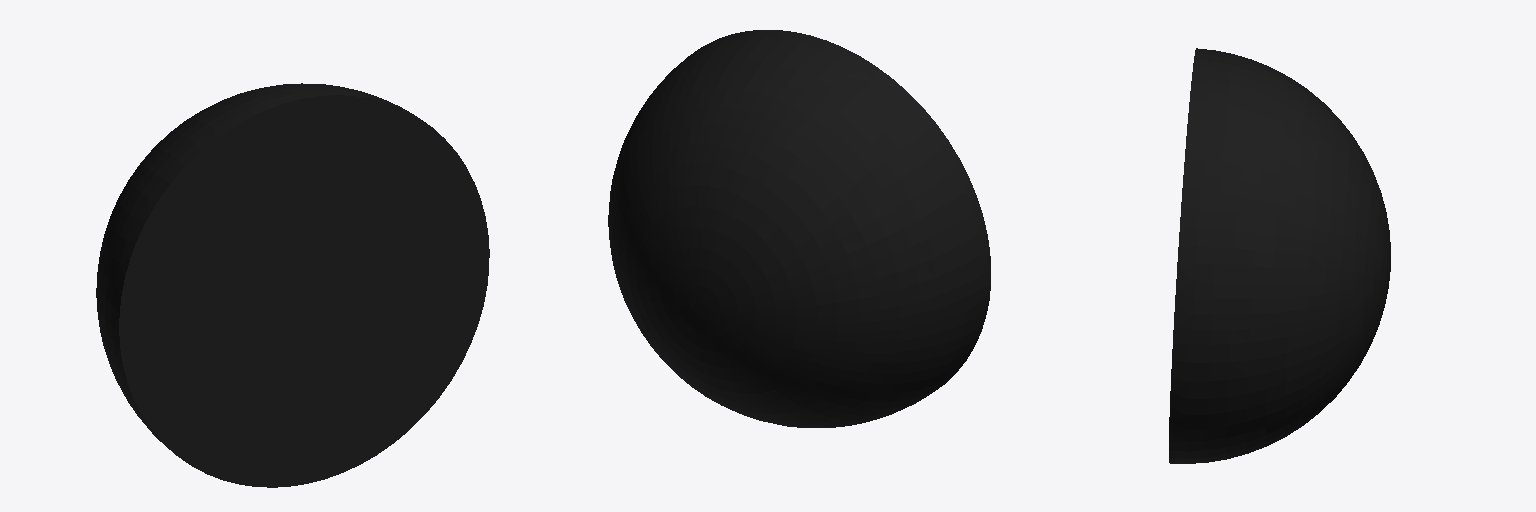
File: toe_right_front.obj
The picture shows the model from 3 angles: view 1: azimuth 30°, elevation 25°; view 2: azimuth 150°, elevation 25°; view 3: azimuth 270°, elevation 25°; orthographic projection.
Parts seen in each view (by area): view 1: Body1.176_Body1.078; view 2: Body1.176_Body1.078; view 3: Body1.176_Body1.078.
Part boxes in pixels (bbox=[...]): Body1.176_Body1.078: bbox=[96, 83, 489, 487]; Body1.176_Body1.078: bbox=[608, 30, 990, 427]; Body1.176_Body1.078: bbox=[1169, 48, 1390, 463].
Bounding box in the file's own units: 0.019 × 0.019 × 0.0102.